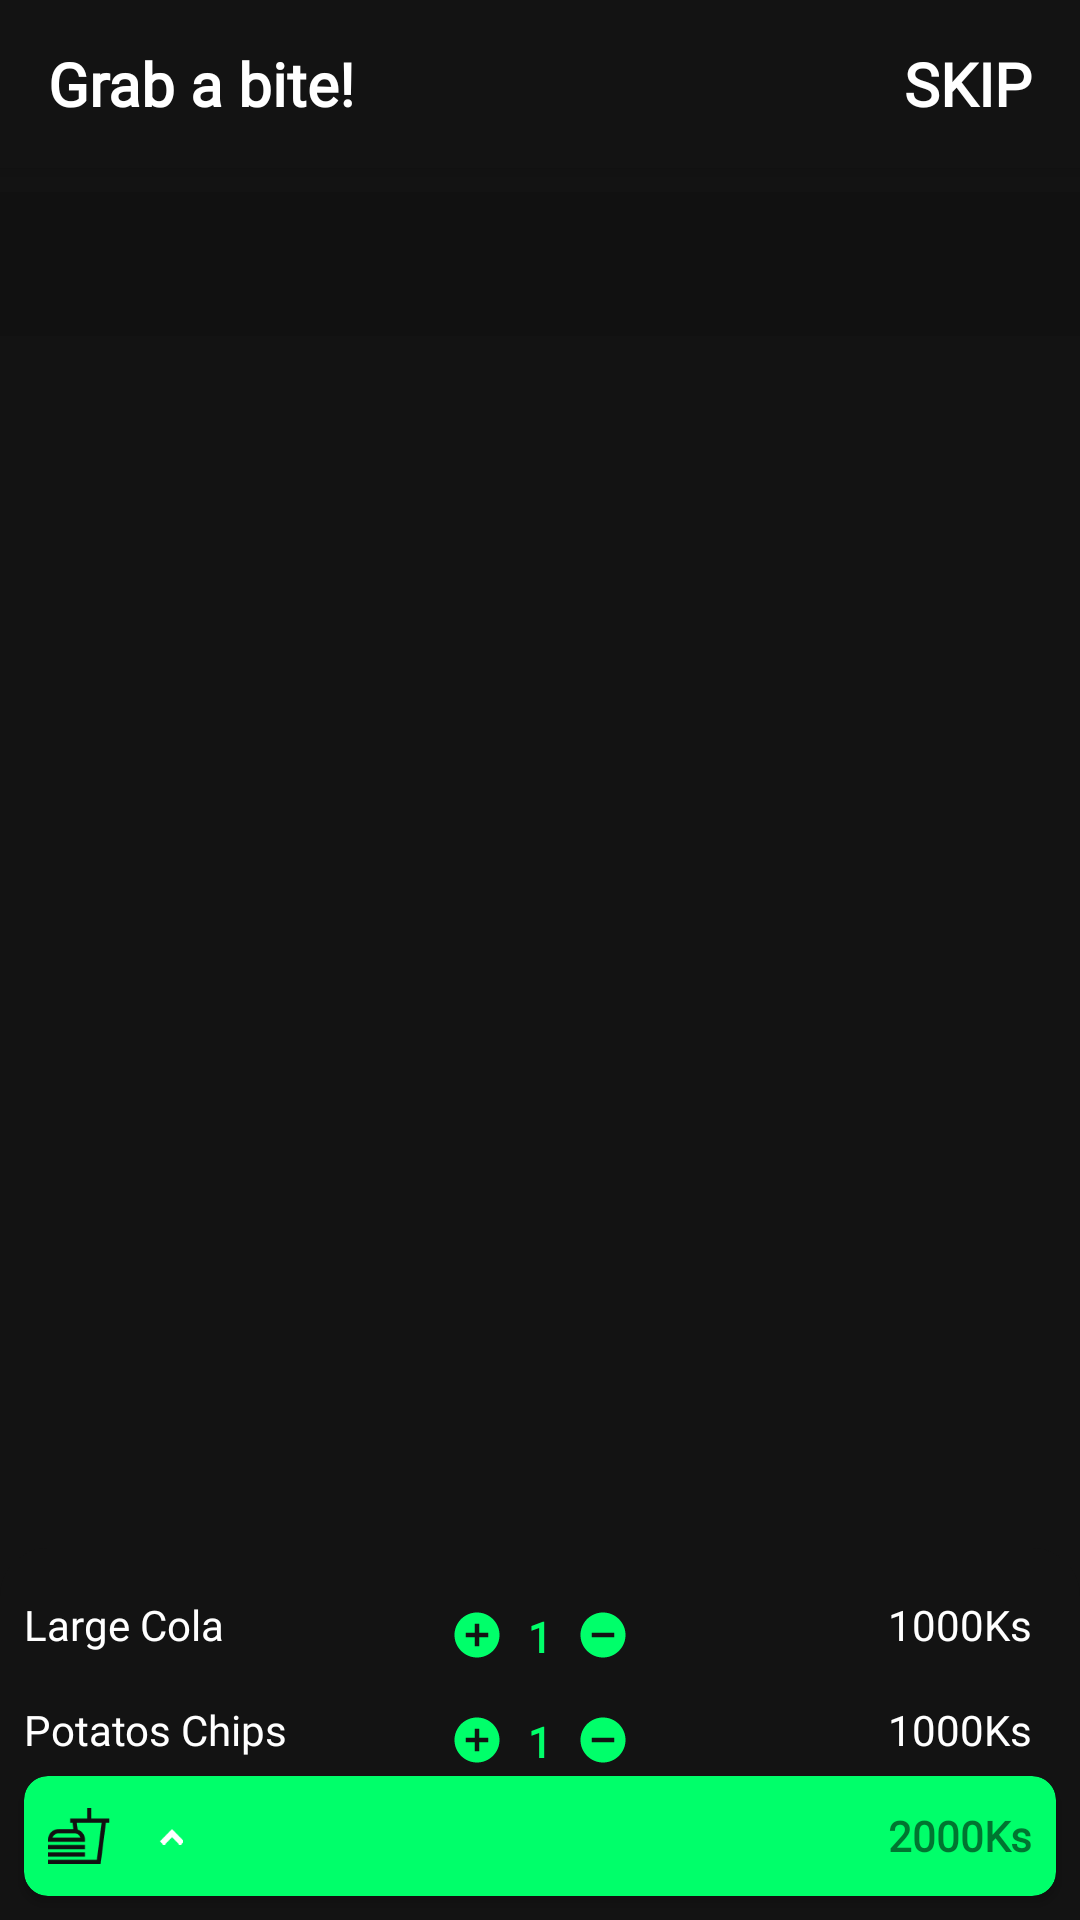

Screen size 1080px x 1920px. Icon name, then its center in pixels as [x,y]:
add circle: [477,1635], [477,1740]
food check out: [79,1836]
remove circle: [603,1635], [603,1740]
